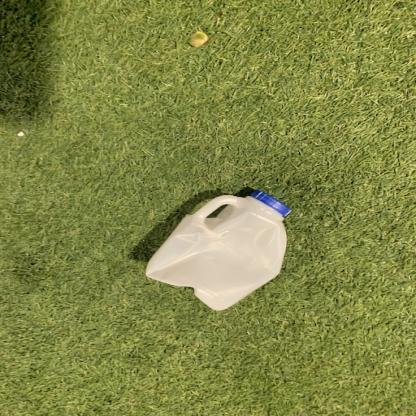trash: (140, 183, 296, 315)
